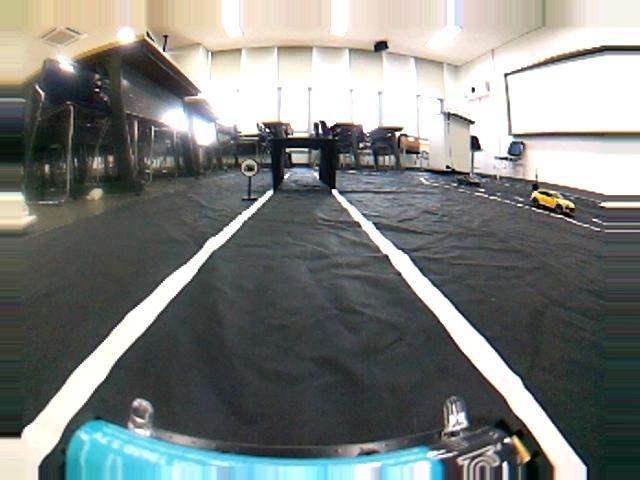sign_tunnel: (240, 156, 259, 177)
straight: (3, 211, 640, 479)
